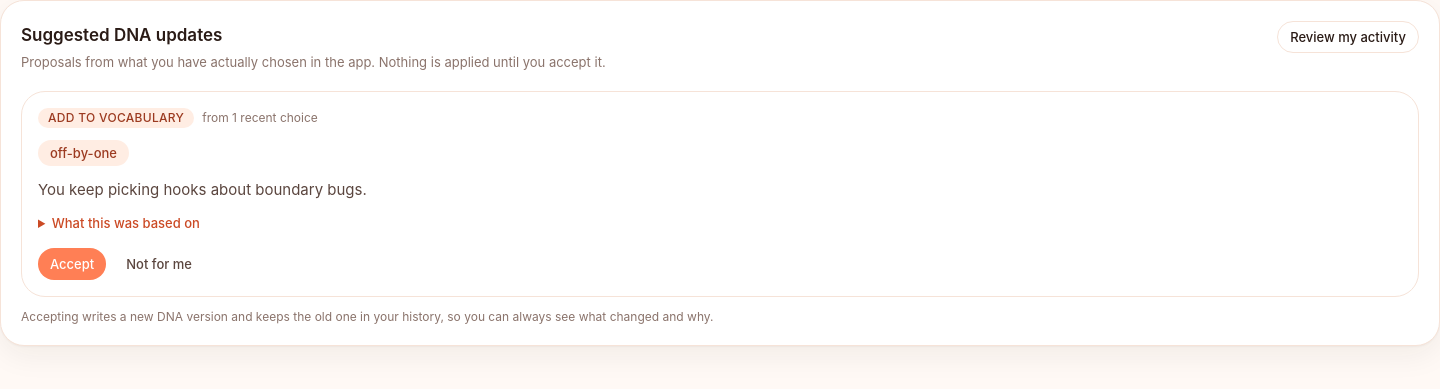
it: SuggestedUpdates › names the signal the proposal came from, not just its id
Click the heading "What this was based on": (126, 223) 52,215 -> 200,231
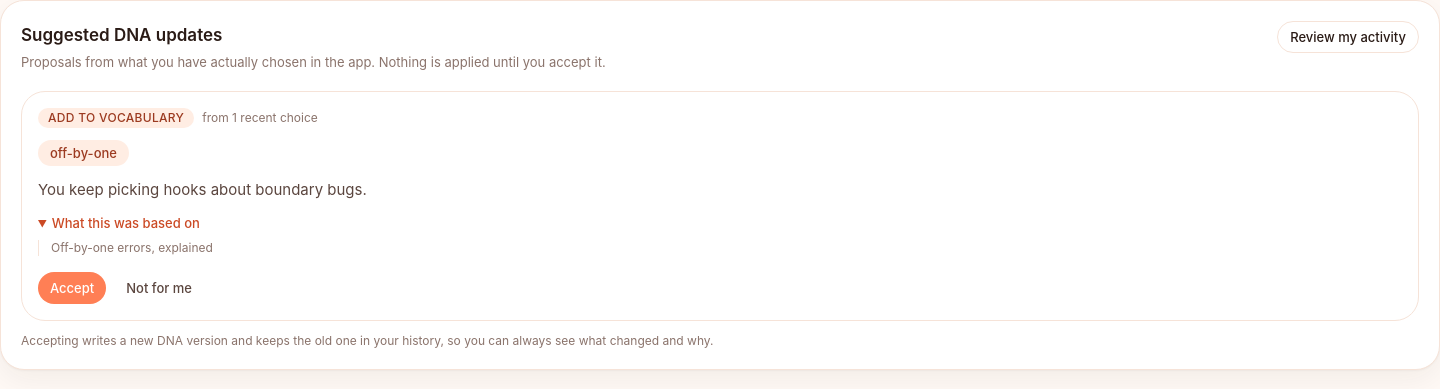
Check: the list item "Off-by-one errors, explained" is shown, box 51,240 -> 213,255
